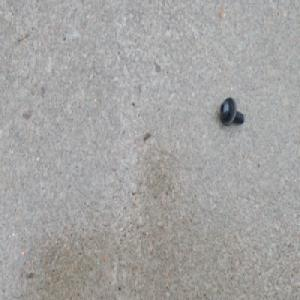BoltWasher: (217, 99, 243, 130)
